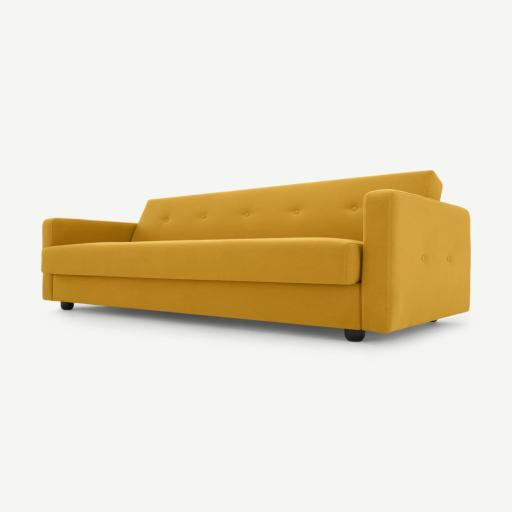back_cushion: (131, 171, 442, 242)
base: (53, 275, 360, 328)
left_arm: (359, 189, 470, 332)
legs: (344, 330, 366, 342), (61, 302, 73, 310)
right_arm: (43, 218, 136, 248)
seat_cushion: (42, 238, 362, 285)
two-seater: (0, 0, 511, 512)
